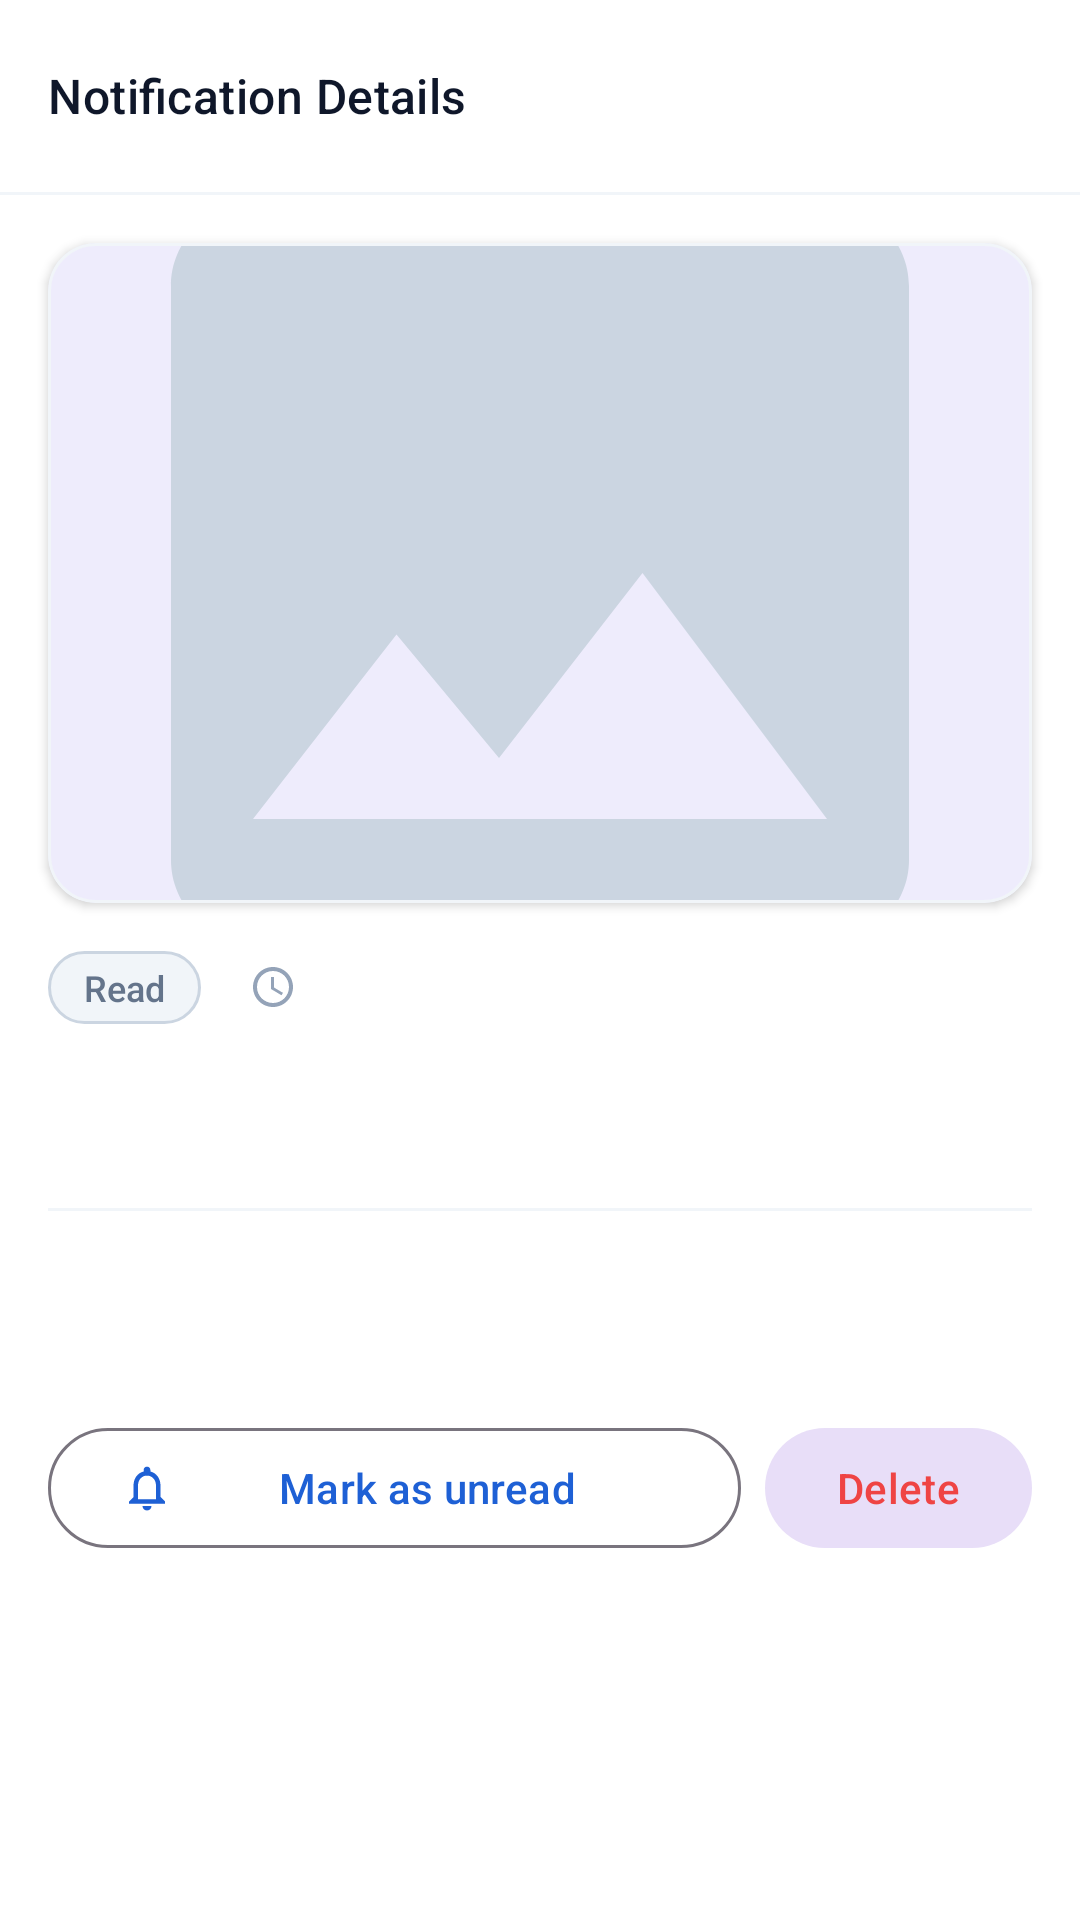

Screen size 1080x1920. Icon name, then its center in pixels as point (x, y):
Time: point (273, 987)
